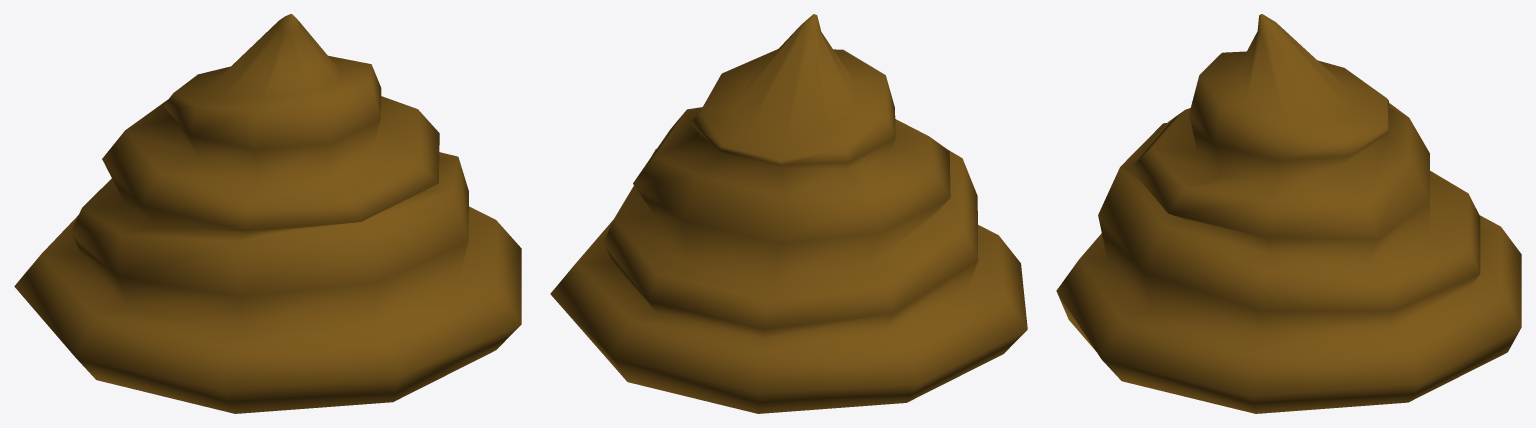
Rendered from catPoop.fbx.
3 views of the same model, side by side, from view 1: azimuth 30°, elevation 25°; view 2: azimuth 150°, elevation 25°; view 3: azimuth 270°, elevation 25° (orthographic). The views are drawn at different scales.
Visible parts, largest first — view 1: Cylinder; view 2: Cylinder; view 3: Cylinder.
Part boxes in pixels (box(x1,y1,x2,y2)): Cylinder: box(14, 14, 521, 413); Cylinder: box(550, 14, 1027, 413); Cylinder: box(1056, 14, 1521, 413).
Bounding box in the file's own units: 220 × 206 × 148.
